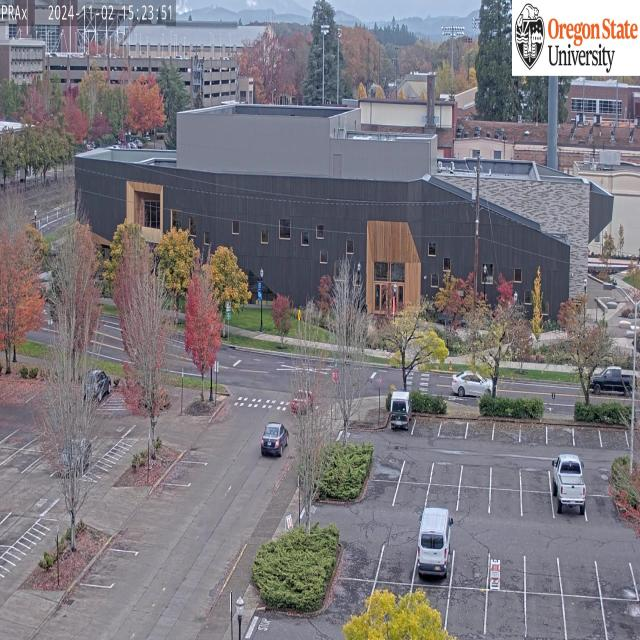available: (479, 588, 525, 640), (440, 583, 486, 631), (335, 576, 372, 631), (520, 596, 566, 638), (375, 582, 409, 635), (598, 598, 640, 640), (411, 586, 447, 635), (560, 599, 604, 637), (556, 562, 602, 596), (594, 562, 638, 597), (518, 557, 563, 590), (448, 549, 490, 584), (483, 556, 526, 589), (342, 537, 378, 575), (378, 544, 418, 578), (426, 484, 459, 517), (454, 488, 494, 514), (396, 473, 426, 507), (488, 487, 522, 516), (518, 489, 554, 516), (580, 468, 614, 496), (490, 420, 524, 446), (430, 458, 465, 482), (586, 494, 617, 521), (518, 466, 552, 490), (487, 463, 520, 487), (515, 422, 549, 443), (399, 458, 432, 479), (464, 422, 494, 445), (459, 464, 490, 486), (374, 455, 401, 480), (546, 424, 574, 448), (596, 428, 628, 448), (412, 416, 440, 438), (571, 428, 600, 447), (375, 478, 394, 506), (440, 420, 466, 438)
occupied: (418, 497, 452, 578), (548, 453, 588, 516), (384, 388, 414, 428)
